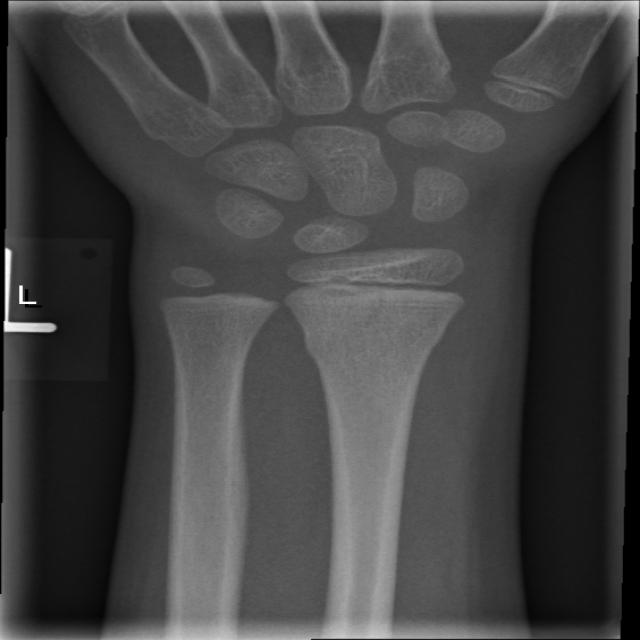radius fracture: (288, 309, 474, 392)
